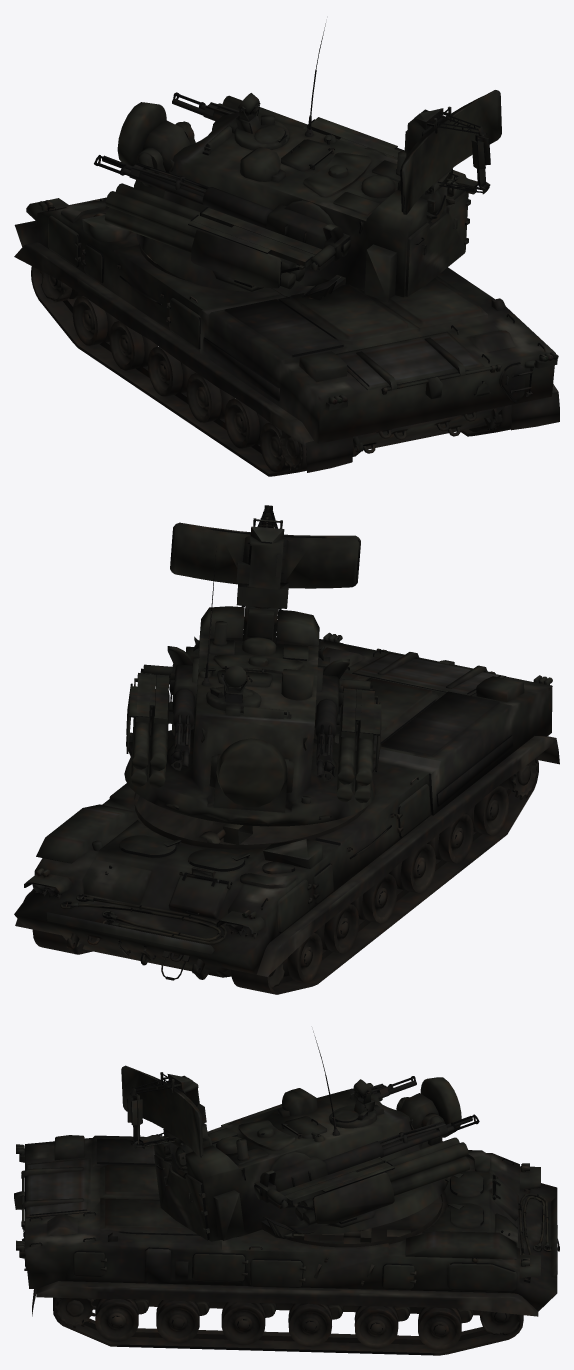
File: tunguska-wreck.glb
3 views of the same model, one above another, from view 1: azimuth 30°, elevation 25°; view 2: azimuth 150°, elevation 25°; view 3: azimuth 270°, elevation 25° (orthographic). The views are drawn at different scales.
Visible parts, largest first — view 1: hull, turret; view 2: hull, turret; view 3: hull, turret.
Part boxes in pixels (x1=…): hull: x1=14, y1=197, x2=559, y2=476; turret: x1=94, y1=23, x2=501, y2=301; hull: x1=14, y1=632, x2=559, y2=994; turret: x1=124, y1=505, x2=381, y2=826; hull: x1=14, y1=1135, x2=559, y2=1355; turret: x1=121, y1=1031, x2=479, y2=1241.
Bounding box in the file's own units: 4.32 × 4.9 × 7.9.
Materials: 1 (1 with a texture image).
